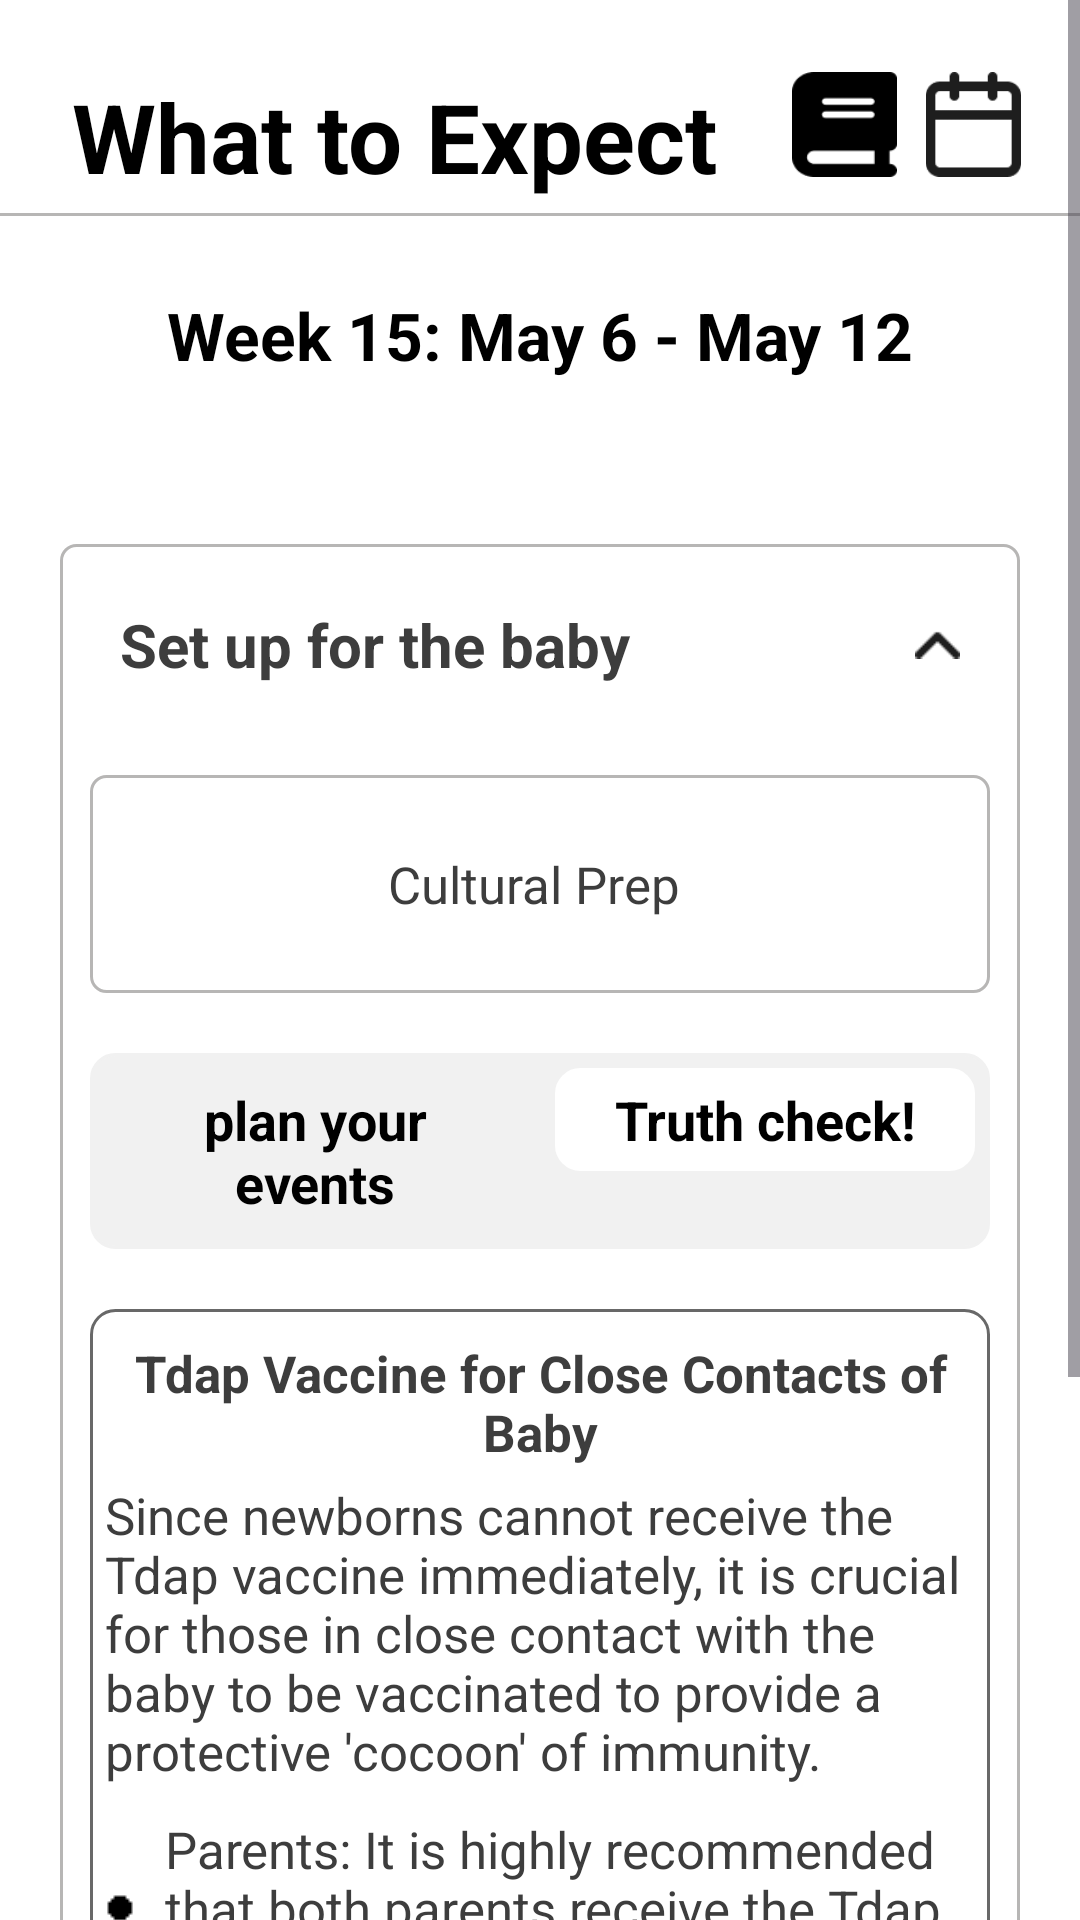

Where icons sit on this 1080px×1920px app screen, as (x1, y1, x2, y2):
date: (926, 72, 1021, 177)
notes: (792, 72, 897, 177)
top arrow: (915, 632, 960, 659)
